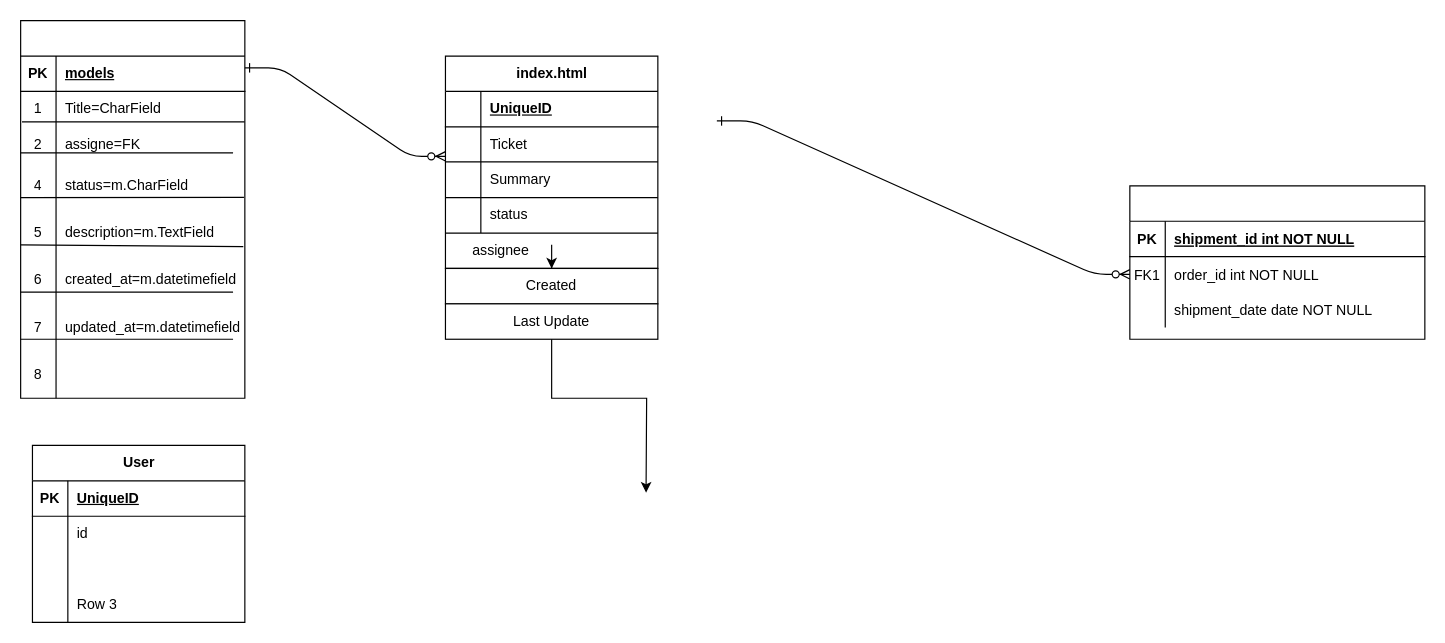
This 1445x643 diagram has some shape labels left out. Each missing label, with the box of its shape:
Customers: (19, 19, 245, 398)
Shipments: (1129, 185, 1425, 339)
